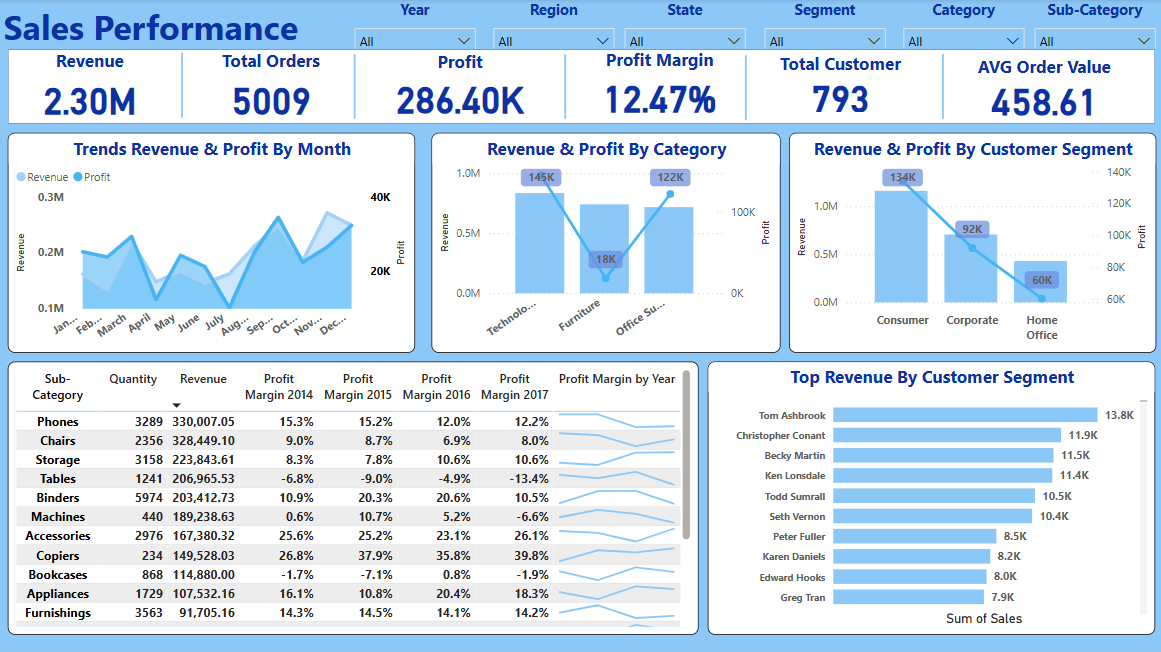

Layout of this report page (visuals, bound fields, positions):
{"tool":"powerbi","page":{"name":"Sales Performance","canvas":[1280,720],"ordinal":2},"visuals":[{"type":"shape","box":[0,0,1280.3,720.4],"z":0},{"type":"textbox","box":[0,0,380.1,60.4],"z":1000},{"type":"slicer","title":"Year","fields":{"Values":["Retail Order.Year"]},"box":[380,0,152.9,54.3],"z":2000},{"type":"slicer","title":"Region","fields":{"Values":["Retail Order.Region"]},"box":[532.9,0,152.9,54.3],"z":3000},{"type":"slicer","title":"State","fields":{"Values":["Retail Order.State"]},"box":[677.1,0,152.9,54.3],"z":4000},{"type":"slicer","title":"Segment","fields":{"Values":["Retail Order.Segment"]},"box":[830,0,152.9,54.3],"z":5000},{"type":"slicer","title":"Category","fields":{"Values":["Retail Order.Category"]},"box":[982.9,0,152.9,54.3],"z":6000},{"type":"slicer","title":"Sub-Category","fields":{"Values":["Retail Order.Sub-Category"]},"box":[1127.1,0,152.9,54.3],"z":7000},{"type":"shape","box":[9.6,54.9,1259.7,82.3],"z":8000},{"type":"card","title":"Revenue","fields":{"Values":["Retail Order.Sales"]},"box":[10,54.3,180,82.9],"z":9000},{"type":"card","title":"Total Orders","fields":{"Values":["Retail Order.Order ID"]},"box":[212.9,54.3,171.4,82.9],"z":10000},{"type":"card","title":"Profit","fields":{"Values":["Retail Order.Profit"]},"box":[391.4,55.7,230,77.1],"z":11000},{"type":"card","title":"Profit Margin","fields":{"Values":["Measure.Profit Margin"]},"box":[620,52.9,210,81.4],"z":12000},{"type":"card","title":"Total Customer","fields":{"Values":["Retail Order.Customer ID"]},"box":[812.9,57.1,222.9,71.4],"z":13000},{"type":"areaChart","title":"Trends Revenue & Profit By Month","fields":{"Y":["Measure.Total Revenue"],"Y2":["Measure.Total Profit"],"Category":["Retail Order.Order Date.Variation.Date Hierarchy.Month"]},"box":[10,147.1,447.1,241.4],"z":14000},{"type":"shape","box":[167.1,58.6,67.1,71.4],"z":15000},{"type":"shape","box":[785.7,61.4,67.1,71.4],"z":16000},{"type":"shape","box":[587.1,60,68.6,71.4],"z":17000},{"type":"shape","box":[357.1,60,67.1,71.4],"z":18000},{"type":"lineClusteredColumnComboChart","title":"Revenue & Profit By Customer Segment","fields":{"Category":["Retail Order.Segment"],"Y":["Retail Order.Sales"],"Y2":["Retail Order.Profit"]},"box":[867.1,147.1,402.9,241.4],"z":19000},{"type":"lineClusteredColumnComboChart","title":"Revenue & Profit By Category","fields":{"Category":["Retail Order.Category"],"Y":["Retail Order.Sales"],"Y2":["Retail Order.Profit"]},"box":[474.3,147.1,382.9,241.4],"z":20000},{"type":"tableEx","fields":{"Values":["Retail Order.Sub-Category","Retail Order.Quantity","Retail Order.Sales","Measure.Profit Margin 2014","Measure.Profit Margin 2015","Measure.Profit Margin 2016","Measure.Profit Margin 2017","SparklineData(Measure.Profit Margin_[Retail Order.Year])"]},"box":[10,398.6,758.6,300],"z":21000},{"type":"barChart","title":"Top Revenue By Customer Segment","fields":{"Category":["Retail Order.Customer Name"],"Y":["Retail Order.Sales"]},"box":[778.6,398.6,491.4,300],"z":22000},{"type":"shape","box":[997.1,60,77.1,71.4],"z":23000},{"type":"card","title":"AVG Order Value","fields":{"Values":["Measure.AVG Orders per Cus"]},"box":[1035.7,61.4,222.9,71.4],"z":24000}]}

Visuals, with their boxes in screenshot pixels (x1, y1, x2, y2), scaled from the page's 1280x720 canvas onto the 1161x652 screenshot:
shape: {"x1": 0, "y1": 0, "x2": 1160, "y2": 651}
textbox: {"x1": 0, "y1": 0, "x2": 345, "y2": 55}
"Year" slicer: {"x1": 345, "y1": 0, "x2": 483, "y2": 49}
"Region" slicer: {"x1": 483, "y1": 0, "x2": 622, "y2": 49}
"State" slicer: {"x1": 614, "y1": 0, "x2": 753, "y2": 49}
"Segment" slicer: {"x1": 753, "y1": 0, "x2": 892, "y2": 49}
"Category" slicer: {"x1": 892, "y1": 0, "x2": 1030, "y2": 49}
"Sub-Category" slicer: {"x1": 1022, "y1": 0, "x2": 1160, "y2": 49}
shape: {"x1": 9, "y1": 50, "x2": 1151, "y2": 124}
"Revenue" card: {"x1": 9, "y1": 49, "x2": 172, "y2": 124}
"Total Orders" card: {"x1": 193, "y1": 49, "x2": 349, "y2": 124}
"Profit" card: {"x1": 355, "y1": 50, "x2": 564, "y2": 120}
"Profit Margin" card: {"x1": 562, "y1": 48, "x2": 753, "y2": 122}
"Total Customer" card: {"x1": 737, "y1": 52, "x2": 940, "y2": 116}
"Trends Revenue & Profit By Month" areaChart: {"x1": 9, "y1": 133, "x2": 415, "y2": 352}
shape: {"x1": 152, "y1": 53, "x2": 212, "y2": 118}
shape: {"x1": 713, "y1": 56, "x2": 774, "y2": 120}
shape: {"x1": 533, "y1": 54, "x2": 595, "y2": 119}
shape: {"x1": 324, "y1": 54, "x2": 385, "y2": 119}
"Revenue & Profit By Customer Segment" lineClusteredColumnComboChart: {"x1": 786, "y1": 133, "x2": 1152, "y2": 352}
"Revenue & Profit By Category" lineClusteredColumnComboChart: {"x1": 430, "y1": 133, "x2": 778, "y2": 352}
tableEx - Retail Order.Sub-Category x Retail Order.Quantity: {"x1": 9, "y1": 361, "x2": 697, "y2": 633}
"Top Revenue By Customer Segment" barChart: {"x1": 706, "y1": 361, "x2": 1152, "y2": 633}
shape: {"x1": 904, "y1": 54, "x2": 974, "y2": 119}
"AVG Order Value" card: {"x1": 939, "y1": 56, "x2": 1142, "y2": 120}
